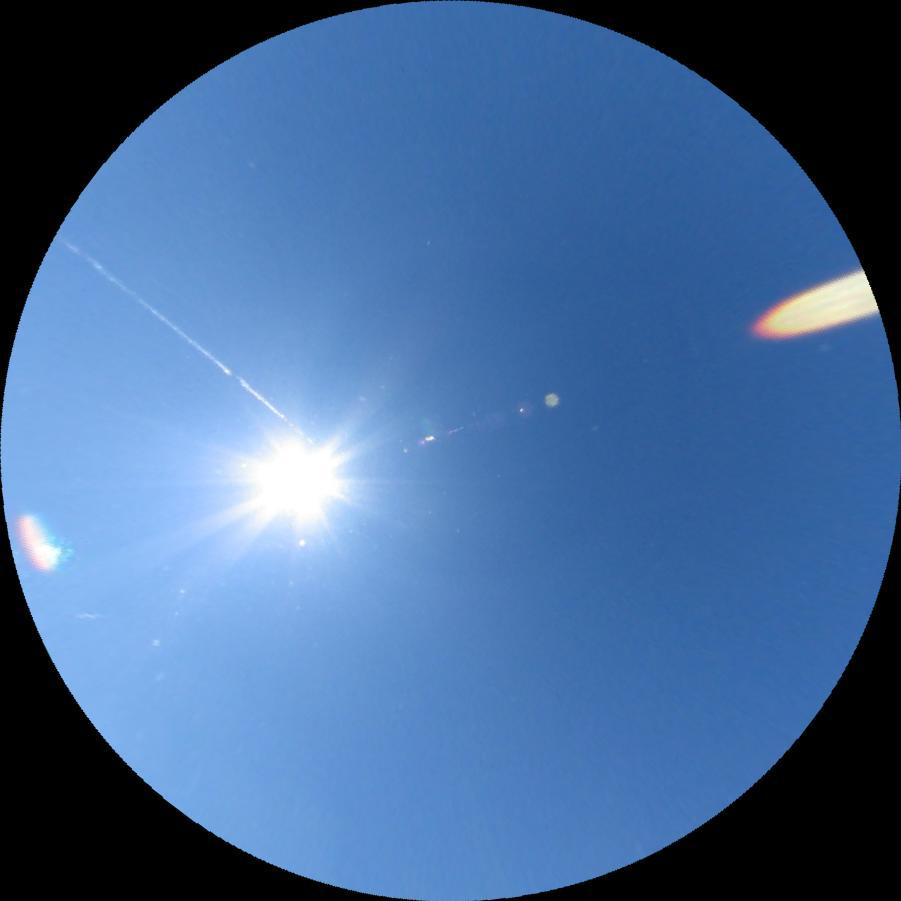contrail young: (70, 613, 101, 619)
parasite: (55, 233, 307, 437)
sun: (232, 428, 353, 537)
